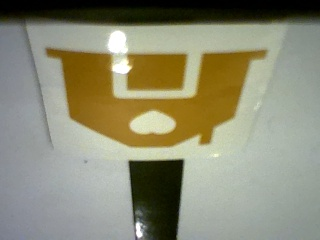Rescue_Station: (46, 45, 269, 149)
